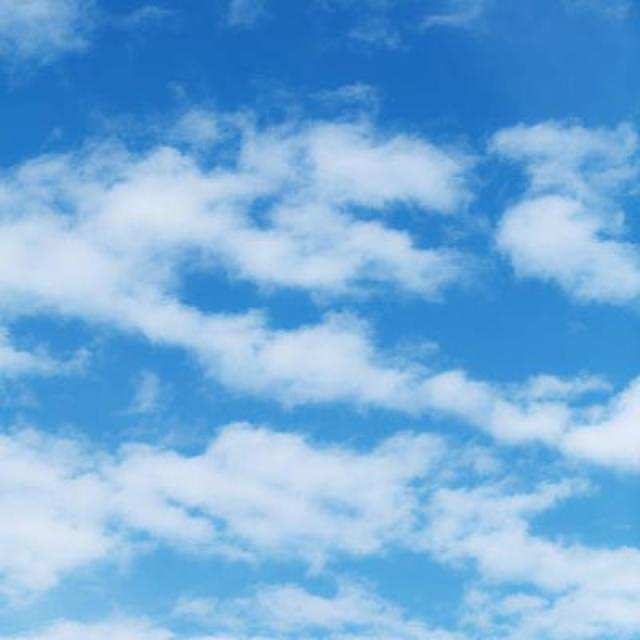Ac: (3, 59, 638, 616)
